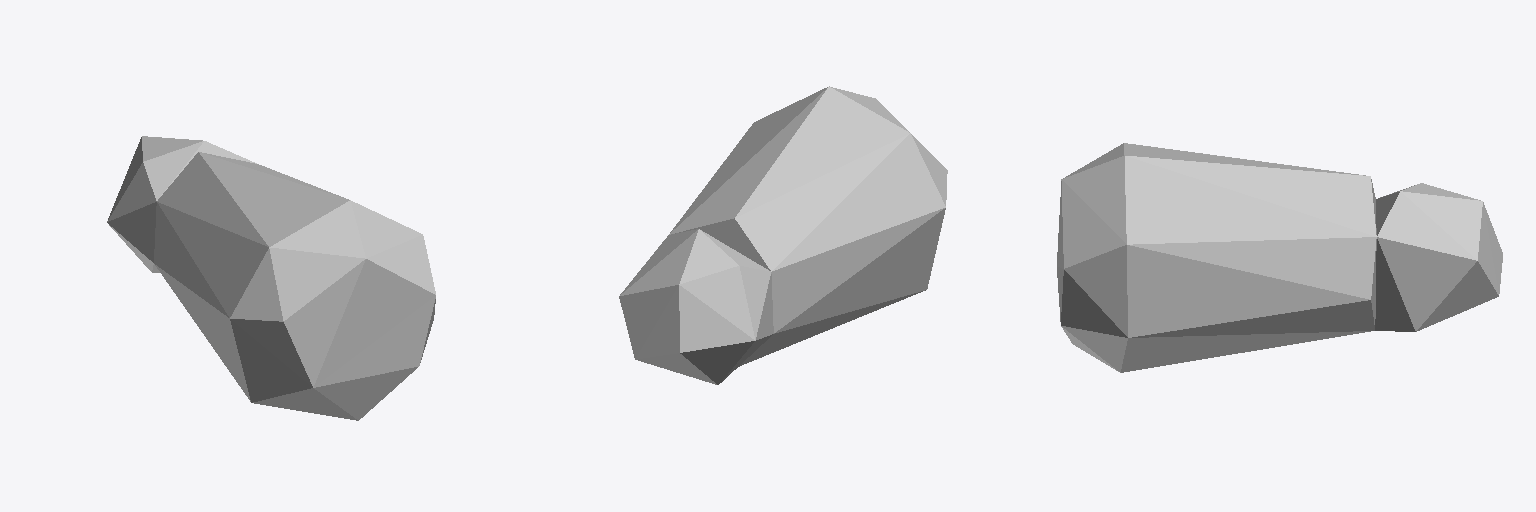
The model's file is head.obj.
3 views of the same model, side by side, from view 1: azimuth 30°, elevation 25°; view 2: azimuth 150°, elevation 25°; view 3: azimuth 270°, elevation 25° (orthographic).
Visible parts, largest first — view 1: node_shape0.004; view 2: node_shape0.004; view 3: node_shape0.004.
Boxes of the visible parts, x1=… form: node_shape0.004: x1=107, y1=136, x2=435, y2=420; node_shape0.004: x1=619, y1=86, x2=947, y2=384; node_shape0.004: x1=1057, y1=143, x2=1502, y2=372.
Bounding box in the file's own units: 0.2145 × 0.2181 × 0.4061.